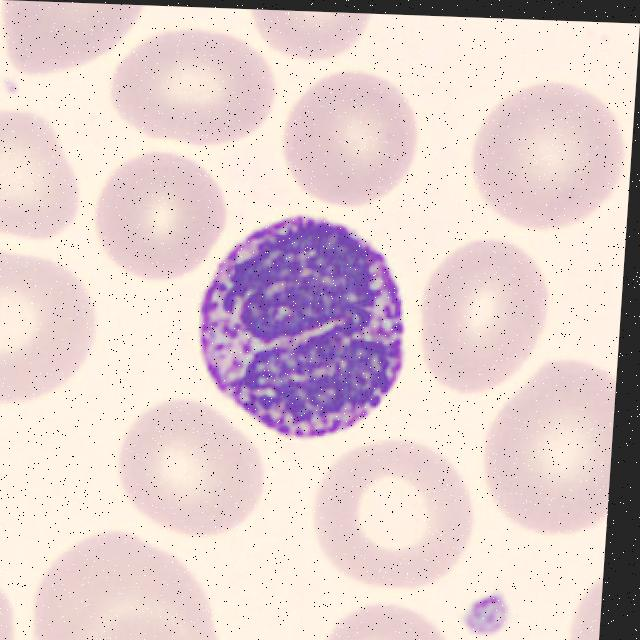basophil: (180, 215, 417, 444)
platelets: (463, 584, 521, 637)
rbc: (456, 72, 635, 232), (473, 357, 617, 540), (301, 444, 481, 590), (21, 525, 225, 640), (90, 39, 294, 150), (417, 235, 556, 396), (109, 402, 270, 538), (274, 74, 433, 210), (87, 147, 238, 285), (0, 244, 102, 431), (0, 0, 145, 92), (0, 99, 88, 248), (244, 9, 382, 68), (300, 595, 459, 640), (561, 577, 603, 640), (0, 564, 20, 640)
